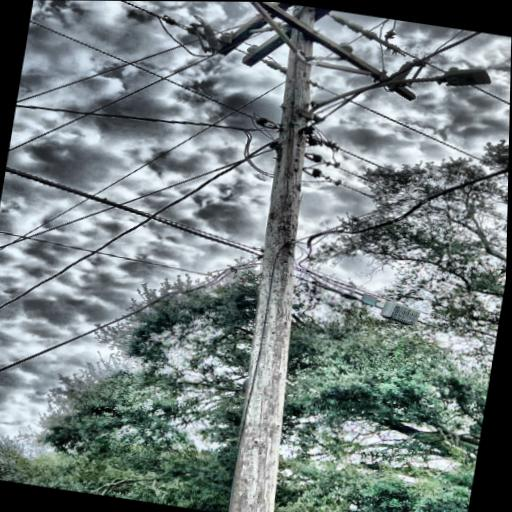pole: (191, 1, 382, 512)
street light: (296, 40, 494, 148)
